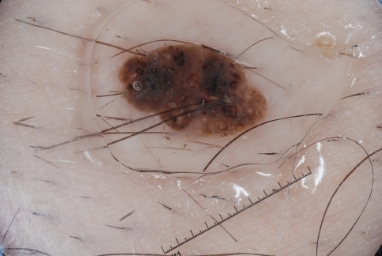seborrheic keratosis: (100, 26, 288, 153)
